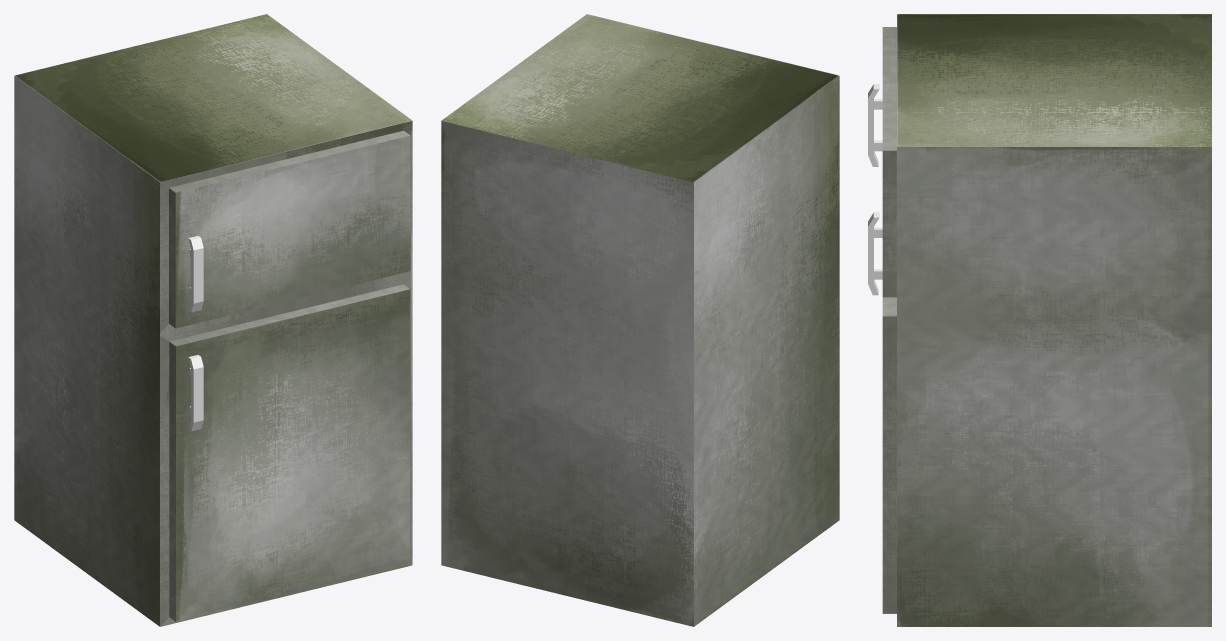
File: fridge.glb
The picture shows the model from 3 angles, left to right: view 1: azimuth 30°, elevation 25°; view 2: azimuth 150°, elevation 25°; view 3: azimuth 270°, elevation 25°; orthographic projection. The views are drawn at different scales.
Parts seen in each view (by area): view 1: Cube, Cube.002, Cube.001; view 2: Cube; view 3: Cube, Cube.002, Cube.001.
Boxes of the visible parts, x1,y1,x2,y2 form: Cube: [14, 14, 412, 626]; Cube.002: [188, 235, 203, 312]; Cube.001: [188, 354, 203, 431]; Cube: [441, 14, 839, 626]; Cube: [882, 14, 1211, 626]; Cube.002: [868, 84, 882, 166]; Cube.001: [868, 212, 882, 295].
Size of the model in its own units: 2 by 3.36 by 2.18.
2 materials, 1 textured.
